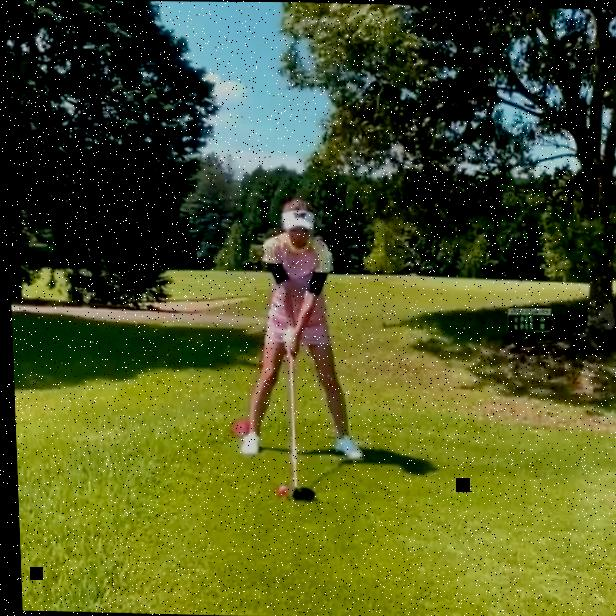ClubHead: (289, 484, 311, 501)
GolfBall: (272, 486, 281, 496)
